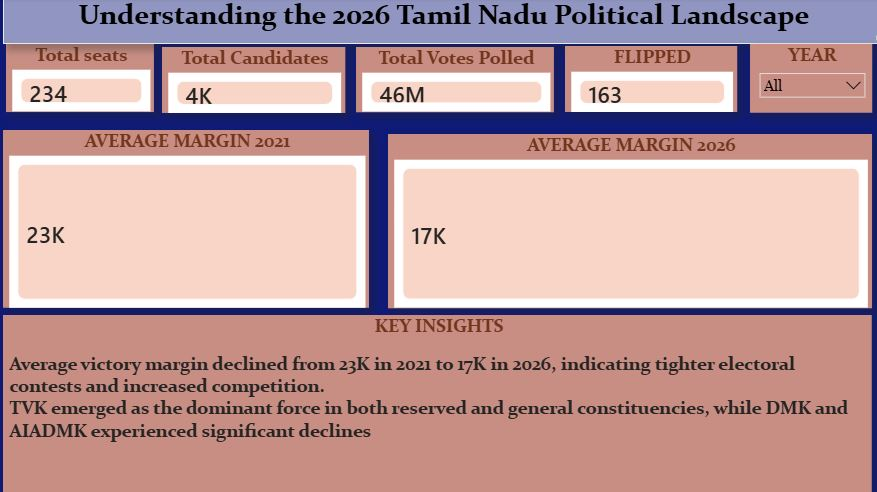

The page's visual inventory and layout, read from the dashboard file:
{"tool":"powerbi","page":{"name":"The margin of victory story","canvas":[1280,720],"ordinal":3},"visuals":[{"type":"cardVisual","title":"Total seats","fields":{"Data":["Count(constituency_master.ac_number)"]},"box":[14.4,66.2,213.1,97.9],"z":0},{"type":"textbox","title":"Understanding the 2026 Tamil Nadu Political Landscape","box":[10.1,0,1270.1,66.2],"z":1000},{"type":"cardVisual","title":"Total Votes Polled","fields":{"Data":["Sum(tn_2021_results.votes)"]},"box":[518.4,70.6,285.1,93.6],"z":2000},{"type":"cardVisual","title":"Total Candidates","fields":{"Data":["tn_2021_results.Total Candidates"]},"box":[239,70.6,263.5,95],"z":3000},{"type":"slicer","title":"YEAR","fields":{"Values":["ALL_WINNER.YEAR"]},"box":[1085.8,66.2,175.7,99.4],"z":7000},{"type":"cardVisual","title":"FLIPPED","fields":{"Data":["CountNonNull(FLIPSTATUS.ac_number)"]},"box":[819.4,69.1,247.7,95],"z":8000},{"type":"cardVisual","title":"AVERAGE MARGIN 2021","fields":{"Data":["Winner_2021_Margin.Average Margin 2021"]},"box":[10.1,190.1,527,256.3],"z":8001},{"type":"cardVisual","title":"AVERAGE MARGIN 2026","fields":{"Data":["WinnerVotes_2026.Avg Margin 2026"]},"box":[564.5,195.8,697,250.6],"z":8002},{"type":"textbox","title":"KEY INSIGHTS","box":[10.1,456.5,1251.4,254.9],"z":8003}]}

Visuals, with their boxes in screenshot pixels (x1, y1, x2, y2), scaled from the page's 1280x720 canvas onto the 877x492 screenshot:
"Total seats" cardVisual: detection(10, 45, 156, 112)
"Understanding the 2026 Tamil Nadu Political Landscape" textbox: detection(7, 0, 876, 45)
"Total Votes Polled" cardVisual: detection(355, 48, 551, 112)
"Total Candidates" cardVisual: detection(164, 48, 344, 113)
"YEAR" slicer: detection(744, 45, 864, 113)
"FLIPPED" cardVisual: detection(561, 47, 731, 112)
"AVERAGE MARGIN 2021" cardVisual: detection(7, 130, 368, 305)
"AVERAGE MARGIN 2026" cardVisual: detection(387, 134, 864, 305)
"KEY INSIGHTS" textbox: detection(7, 312, 864, 486)
